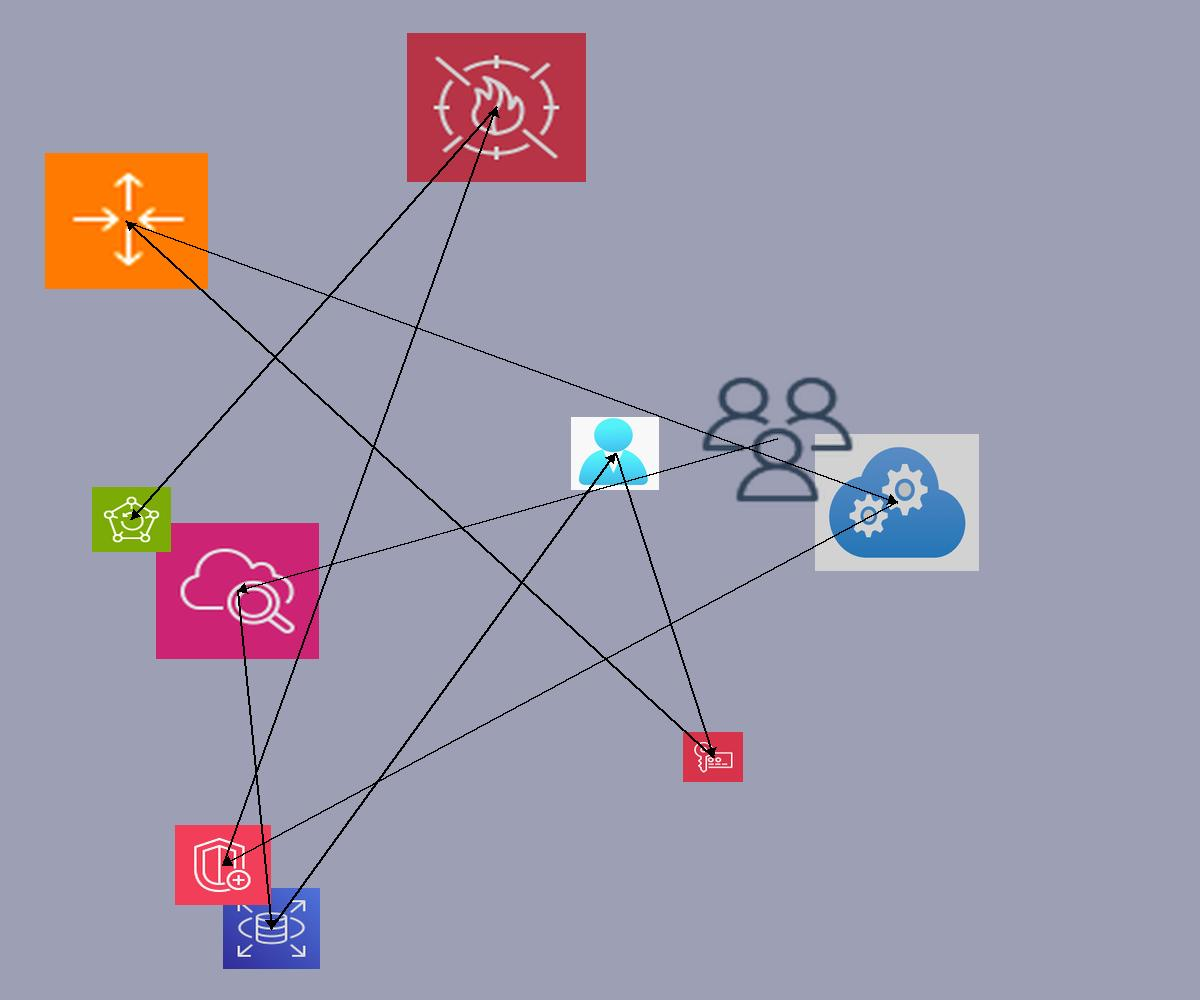AWS-Backup: (92, 487, 171, 552)
AWS-CloudWatch: (156, 523, 319, 659)
AWS-Key-Management-Service: (683, 732, 743, 782)
AWS-RDS: (223, 888, 320, 969)
AWS-Res_Users: (696, 372, 859, 507)
AWS-Scaling-group: (45, 153, 208, 289)
AWS-Shield: (175, 825, 271, 905)
AWS-WAF: (407, 33, 586, 182)
Azure_cloud_services: (815, 434, 979, 571)
Azure_users: (571, 417, 659, 490)
